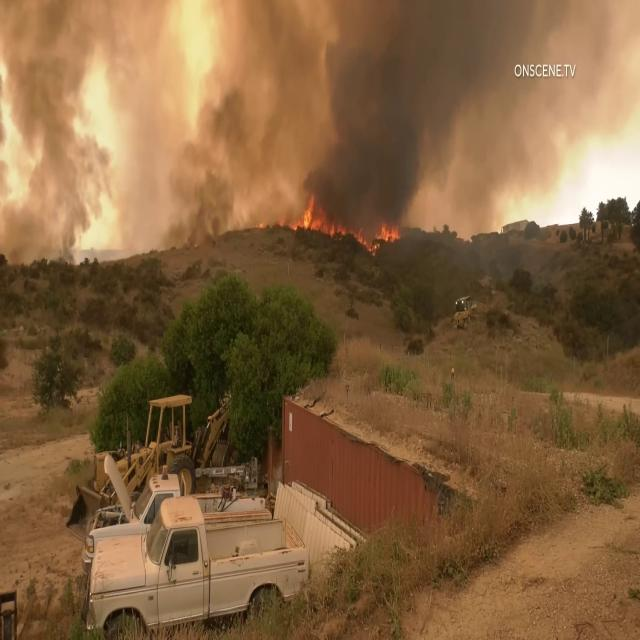fire: (302, 186, 342, 238), (367, 212, 410, 252)
smoke: (333, 27, 408, 201), (30, 114, 122, 253), (183, 172, 229, 246)
